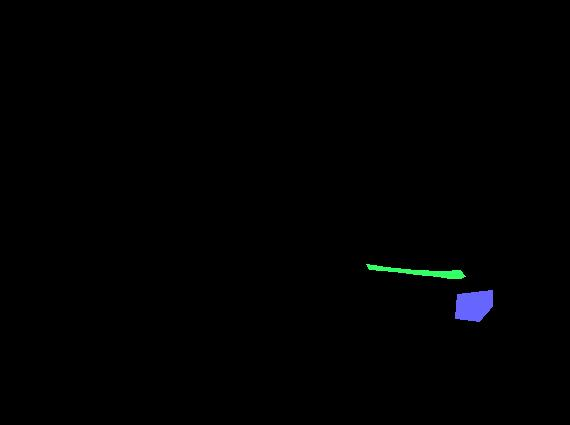Broken part: (366, 264, 465, 278)
Scratch: (455, 290, 492, 321)
